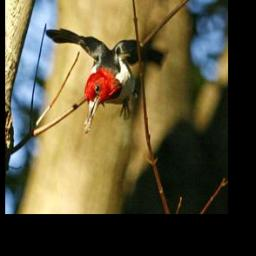Woodpecker: (38, 19, 166, 136)
